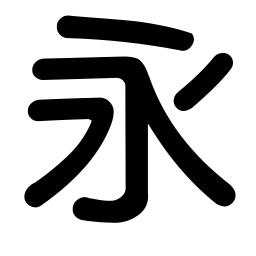D: (56, 14, 195, 45)
HSZ: (115, 53, 154, 91)
Hs: (29, 56, 89, 80)
Ne: (210, 175, 238, 210)
PNc: (149, 93, 197, 134)
PZe: (20, 177, 51, 209)
Ps: (206, 48, 236, 82)
SG: (70, 185, 151, 225)
Sm: (122, 146, 151, 170)
TPZ: (80, 95, 115, 145)
Ts: (26, 97, 55, 123)
